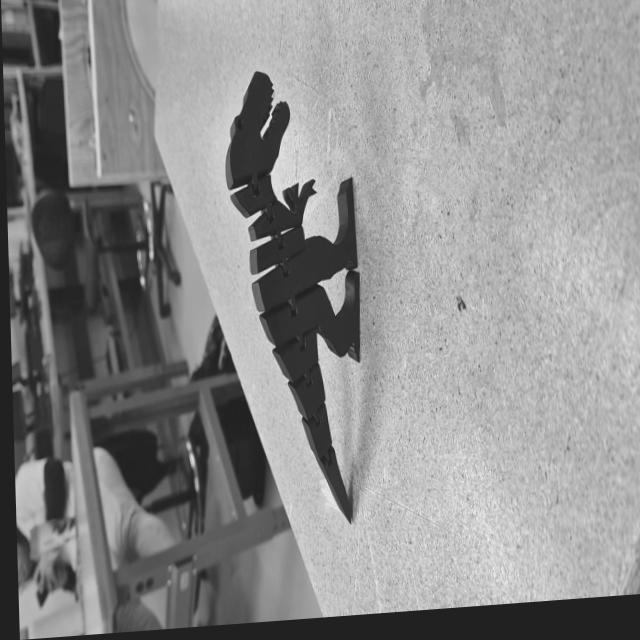dino: (221, 63, 366, 535)
